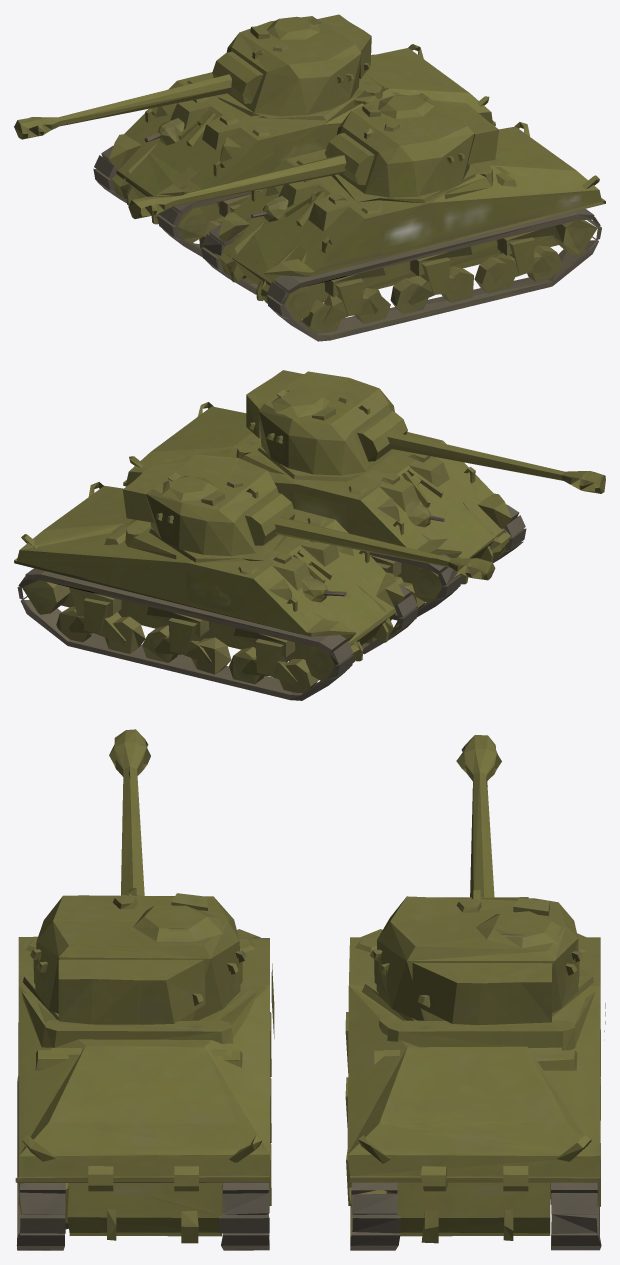
Rendered from bulge_british_armor.glb.
3 renders of one model, top to bottom at view 1: azimuth 30°, elevation 25°; view 2: azimuth 150°, elevation 25°; view 3: azimuth 270°, elevation 25°, orthographic. The views are drawn at different scales.
Visible parts, largest first — view 1: figura; view 2: figura; view 3: figura.
Boxes of the visible parts, x1,y1,x2,y2 form: figura: (14,14,605,341); figura: (14,370,605,700); figura: (15,729,605,1250).
Bounding box in the file's own units: 0.8829 × 0.3286 × 0.665.
1 material, 1 textured.
